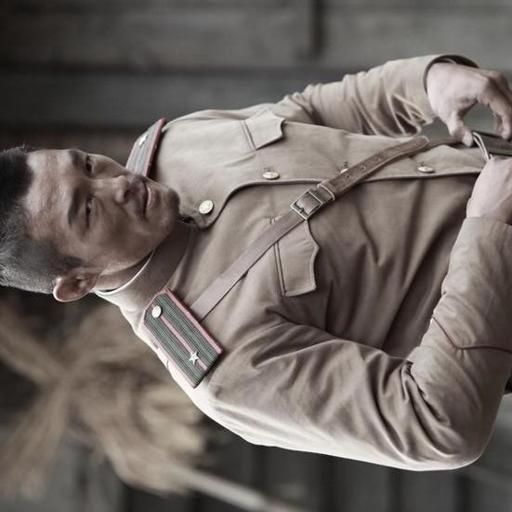north army: (4, 59, 512, 457)
